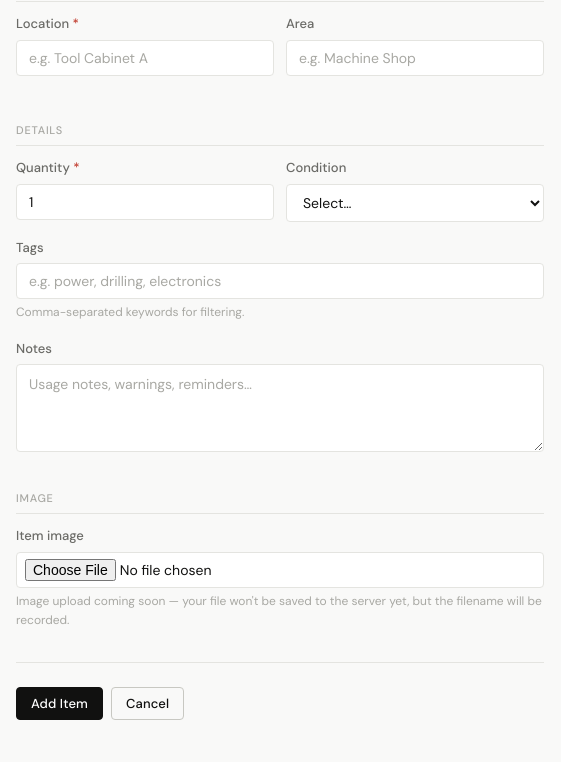
it: AddItemPage › clears a field error once the user starts typing in that field
(page scrolled)
Click the button "Add Item" at (60, 704), box [16,687,103,720]
(page scrolled)
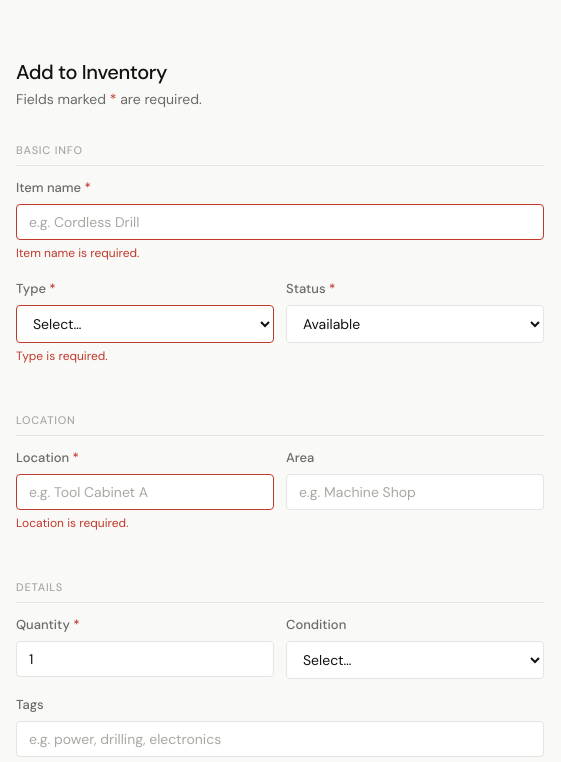
Result: the text "Item name is required." is shown at [16,245,140,261]
Type "Drill" into the field labelled "Item name *" at (280, 222), box [16,204,544,240]
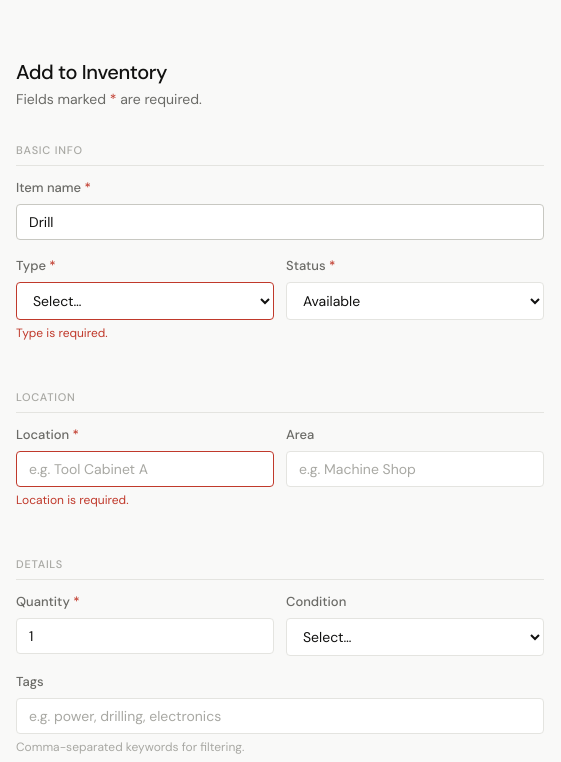
Result: the text "Item name is required" is gone
